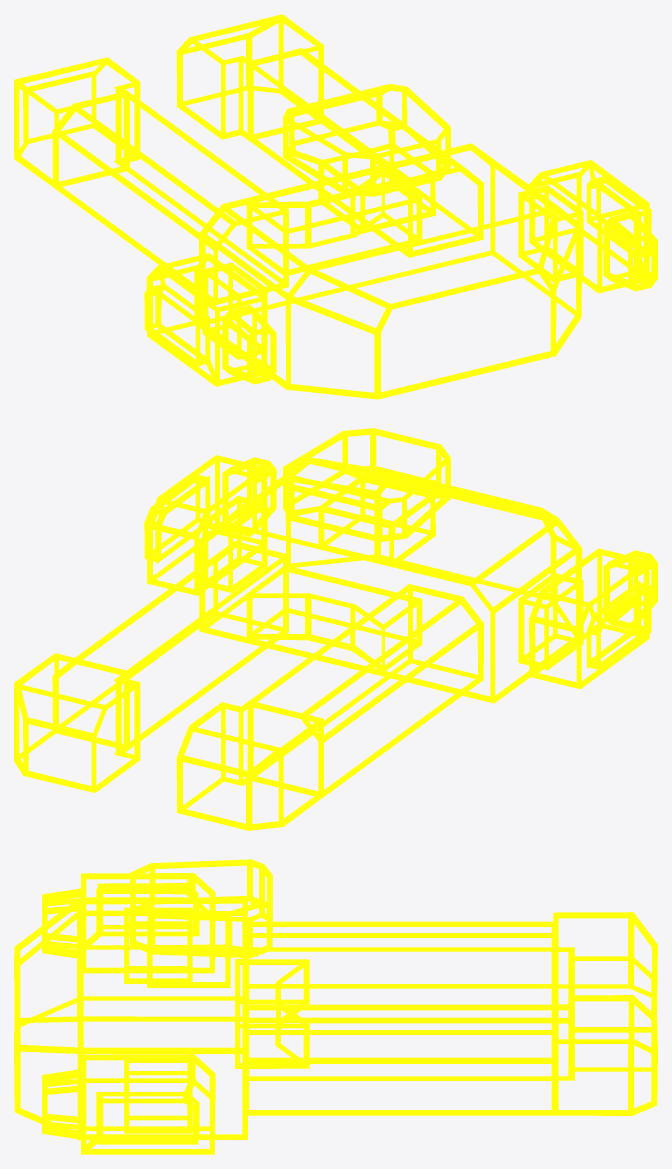
The model's file is ship_wireframe.fbx.
3 renders of one model, top to bottom at view 1: azimuth 30°, elevation 25°; view 2: azimuth 150°, elevation 25°; view 3: azimuth 270°, elevation 25°, orthographic. The views are drawn at different scales.
Visible parts, largest first — view 1: Cube; view 2: Cube; view 3: Cube.
Boxes of the visible parts, x1,y1,x2,y2 form: Cube: [14, 14, 657, 399]; Cube: [14, 428, 657, 830]; Cube: [14, 859, 657, 1154].
Bounding box in the file's own units: 1282 × 504 × 1617.
